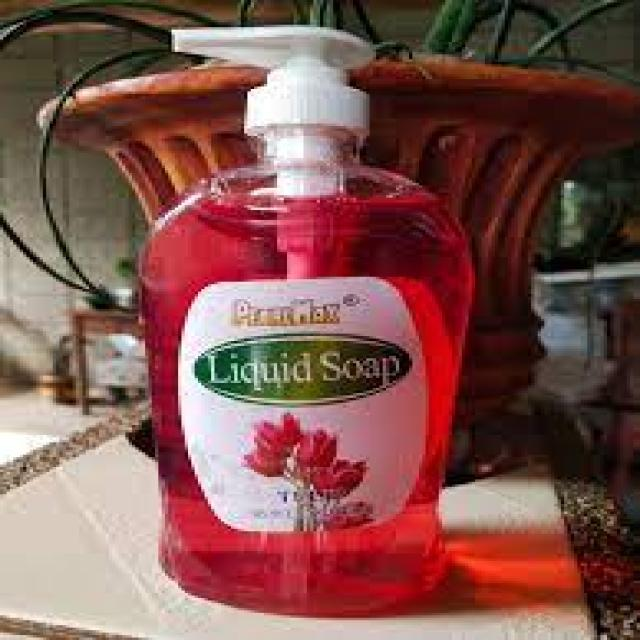liquid soap: (130, 18, 486, 614)
